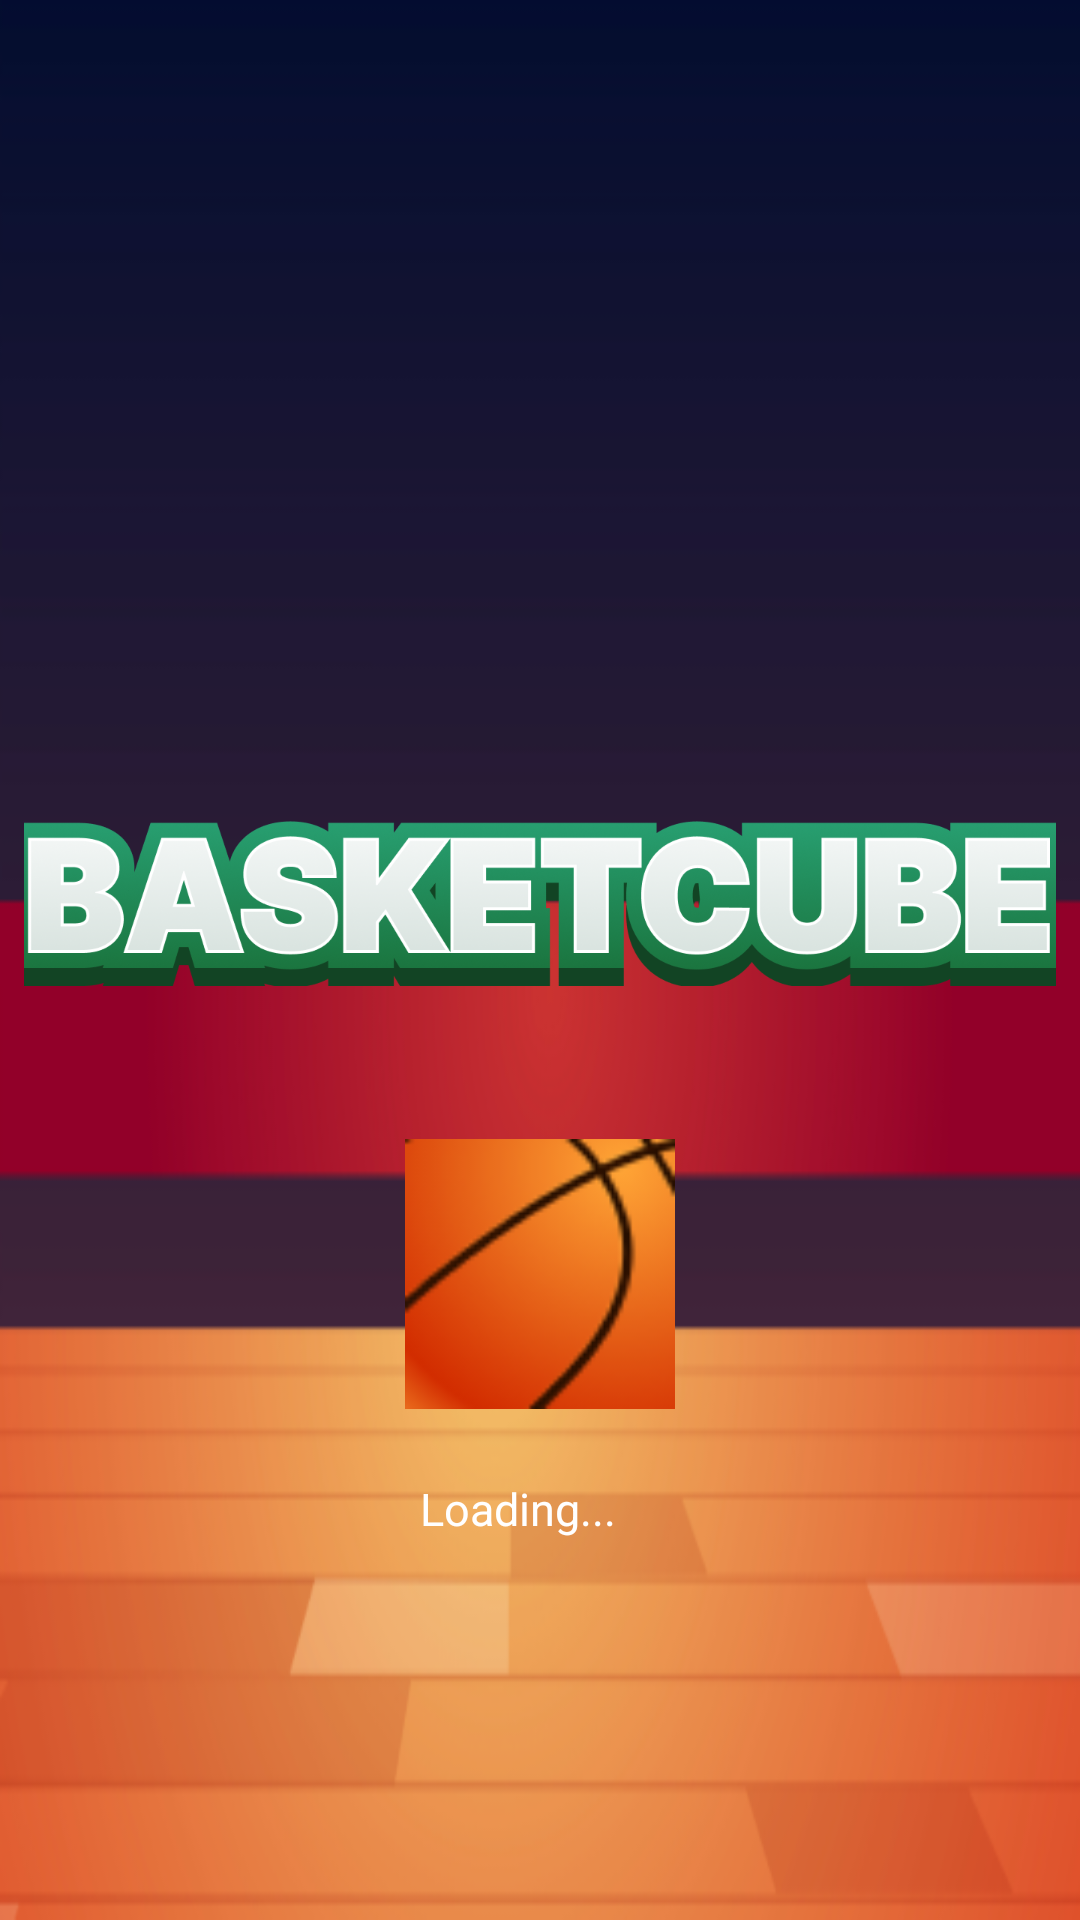

Named icons in this screenshot (1080 × 1920) and their centers, (x=x, y=y):
squarebasball: (x=540, y=1274)
